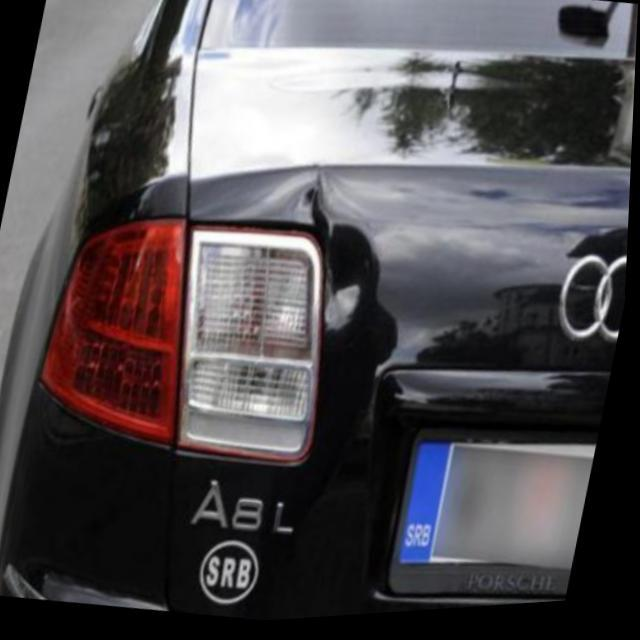dent: (304, 165, 384, 341)
